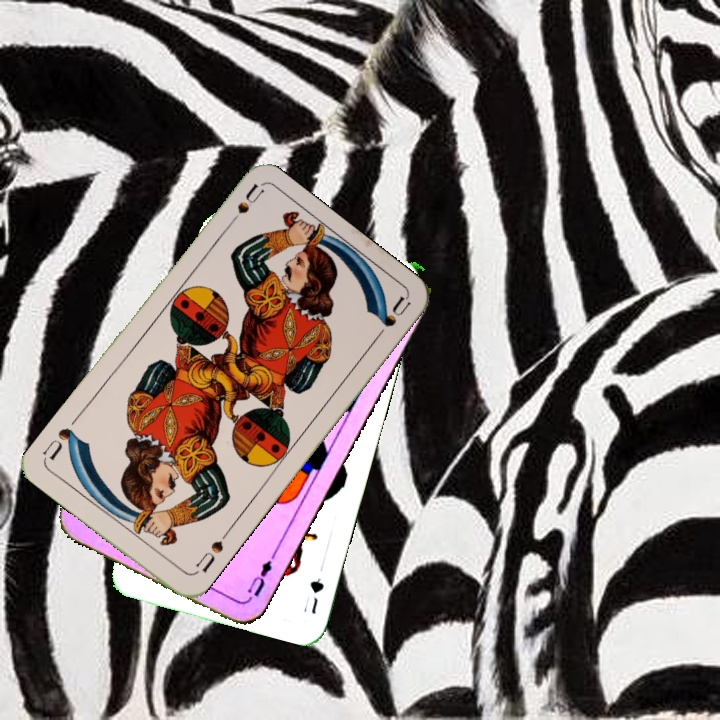EU: (243, 551, 277, 600)
GU: (306, 573, 327, 617)
SU: (220, 181, 266, 233), (190, 527, 231, 577)
